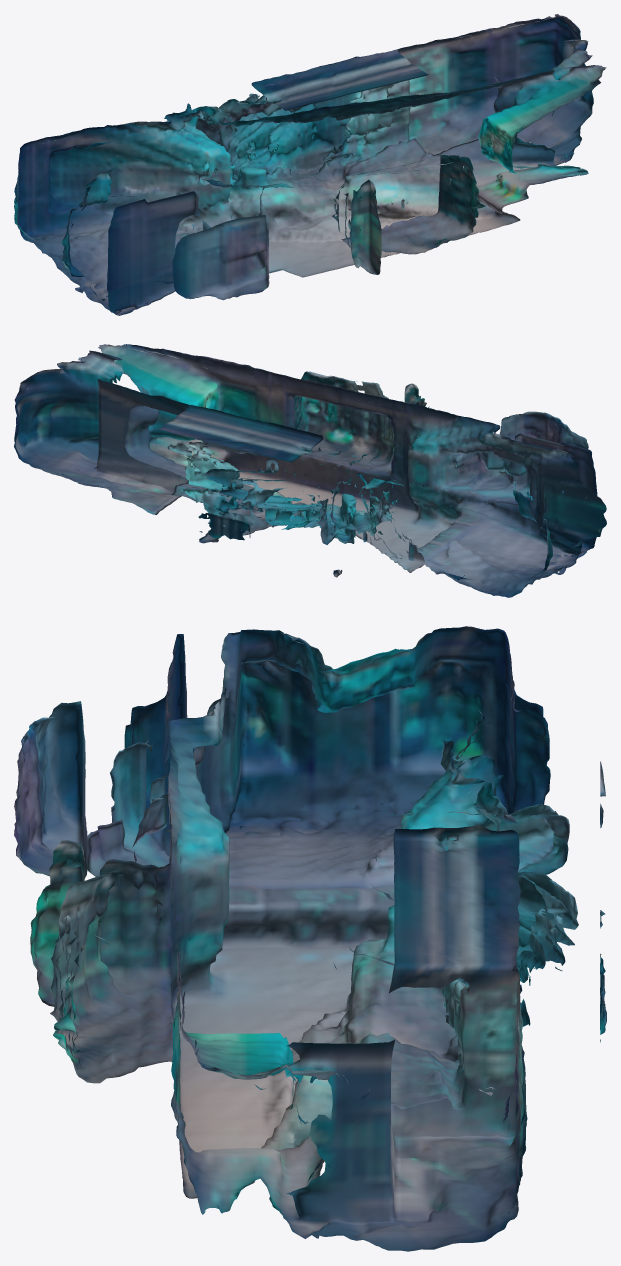
File: TechLab.glb
The picture shows the model from 3 angles, top to bottom: view 1: azimuth 30°, elevation 25°; view 2: azimuth 150°, elevation 25°; view 3: azimuth 270°, elevation 25°; orthographic projection. The views are drawn at different scales.
Parts seen in each view (by area): view 1: world; view 2: world; view 3: world.
Boxes of the visible parts, x1,y1,x2,y2 form: world: [14, 14, 606, 315]; world: [14, 344, 606, 597]; world: [14, 626, 606, 1251].
Size of the model in its own units: 9.15 by 1.9 by 4.47.
